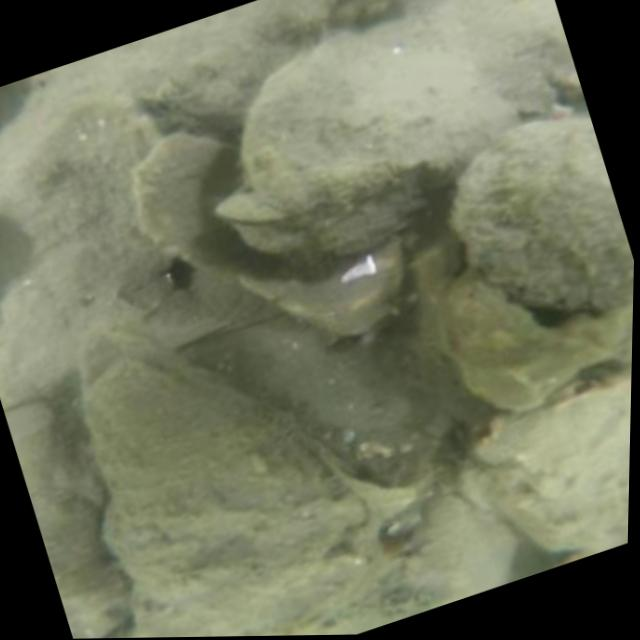Oyster-Closed: (84, 322, 370, 638)
Oyster-Indeterminate: (225, 0, 555, 256), (129, 130, 407, 337), (451, 117, 633, 316), (13, 402, 132, 639), (472, 376, 631, 553)
